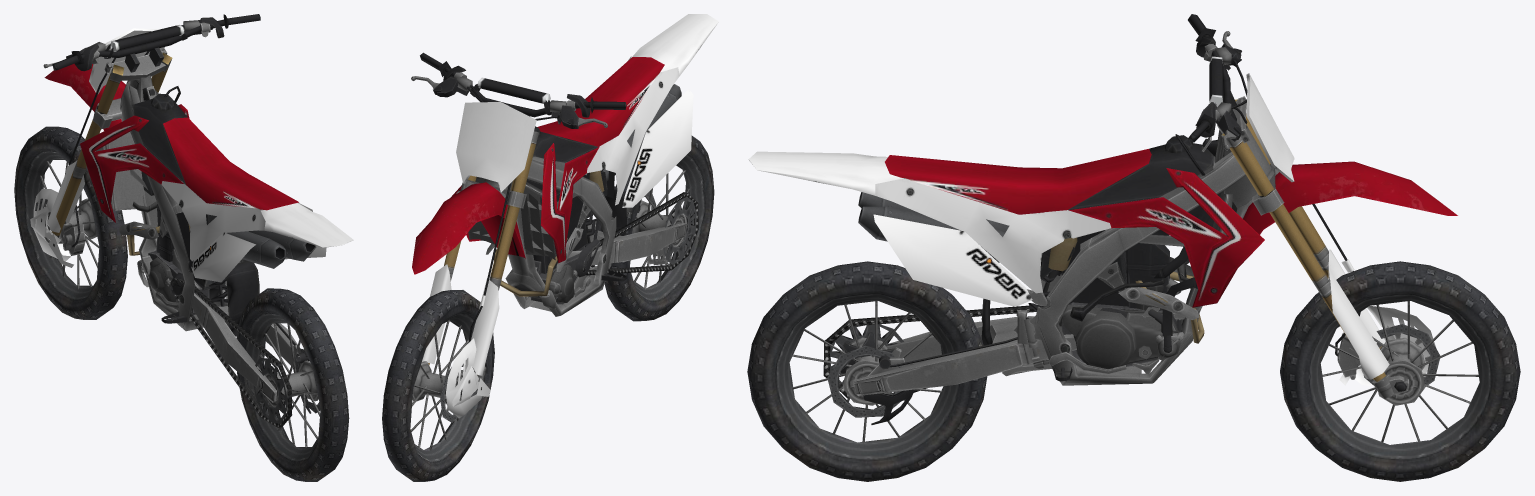
The model's file is Motorcycle.glb.
3 views of the same model, side by side, from view 1: azimuth 30°, elevation 25°; view 2: azimuth 150°, elevation 25°; view 3: azimuth 270°, elevation 25° (orthographic). The views are drawn at different scales.
Visible parts, largest first — view 1: Motorcycle__LOD4; view 2: Motorcycle__LOD4; view 3: Motorcycle__LOD4.
Part boxes in pixels (bbox=[...]): Motorcycle__LOD4: bbox=[14, 14, 353, 481]; Motorcycle__LOD4: bbox=[382, 14, 718, 481]; Motorcycle__LOD4: bbox=[747, 14, 1520, 481].
Size of the model in its own units: 0.7743 by 1.22 by 2.09.
Materials: 1 (1 with a texture image).
